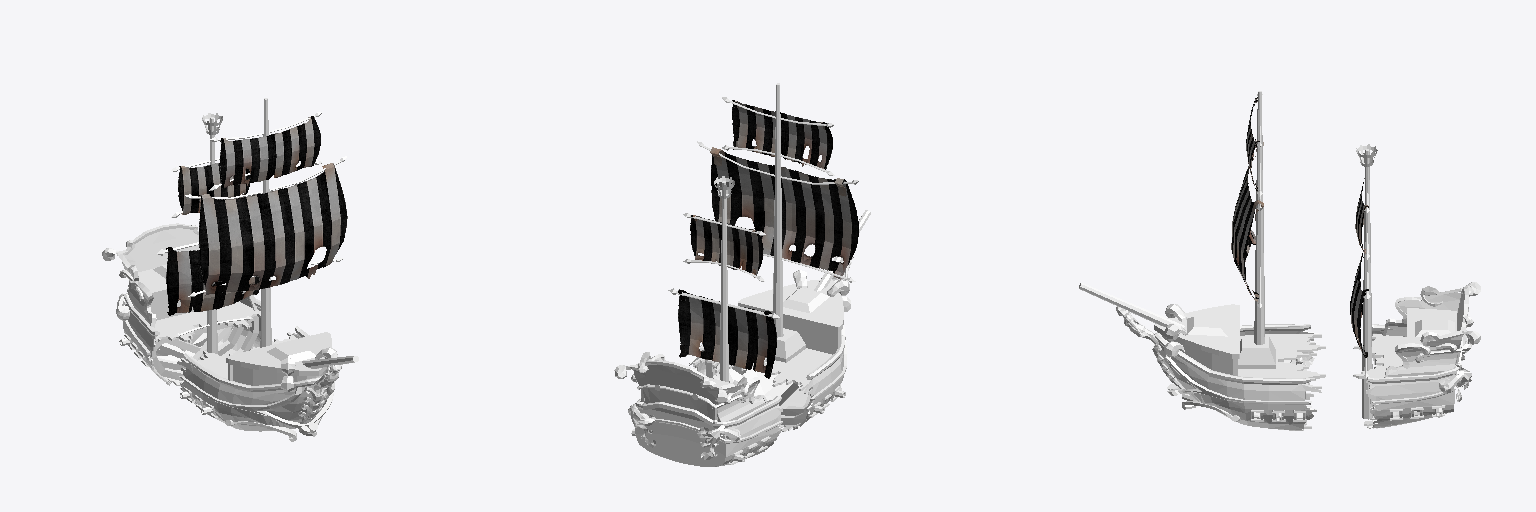
3 renders of one model, left to right at view 1: azimuth 30°, elevation 25°; view 2: azimuth 150°, elevation 25°; view 3: azimuth 270°, elevation 25°, orthographic.
Parts seen in each view (by area): view 1: obj3, obj1, obj4, obj7, obj2, obj5; view 2: obj3, obj4, obj1, obj7, obj2, obj5; view 3: obj1, obj4, obj3, obj2, obj5, obj7.
Part boxes in pixels (x1,y1,x2,y2): obj3: (198,116,347,295); obj1: (177,326,358,441); obj4: (102,223,260,386); obj7: (166,163,259,315); obj2: (185,98,346,347); obj5: (157,117,246,353); obj3: (710,100,858,279); obj4: (614,352,782,466); obj1: (689,210,870,431); obj7: (678,215,776,378); obj2: (697,83,858,337); obj5: (668,181,779,381); obj1: (1079,283,1325,430); obj4: (1353,282,1480,428); obj3: (1231,97,1263,301); obj2: (1254,91,1264,344); obj5: (1362,149,1372,419); obj7: (1350,178,1368,357).
Size of the model in its own units: 0.2665 by 0.512 by 0.568.
2 materials, 1 textured.